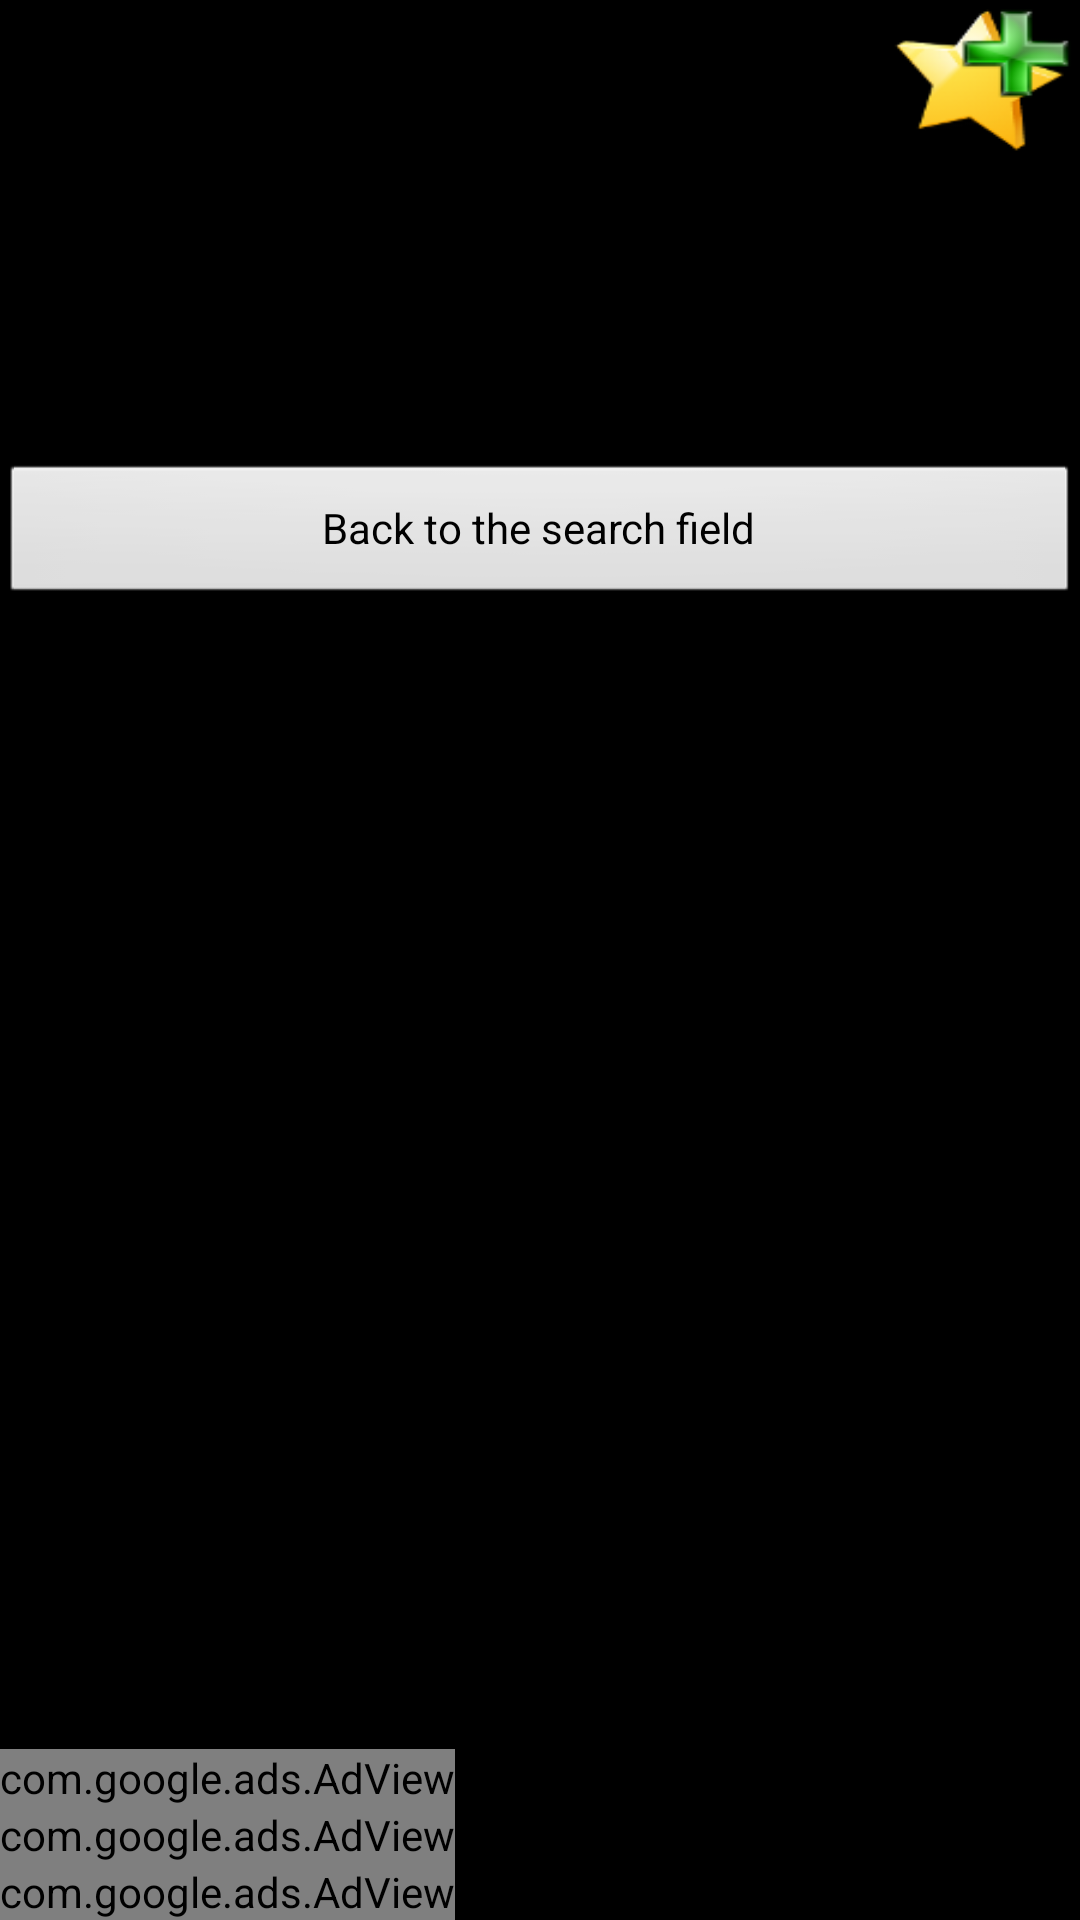

Icon bounding boxes for this 1080px×1920px phone screenshot, format [x1=x1, y1=y1, x2=x2, y2=y2]:
add: [x1=896, y1=11, x2=1069, y2=151]
